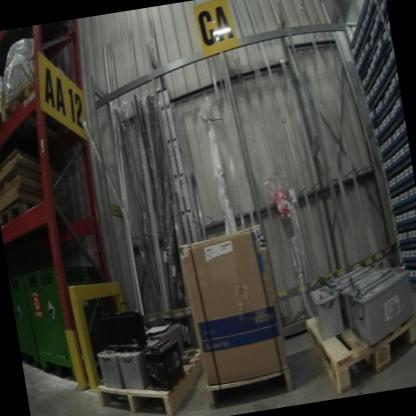pallet: (299, 278, 416, 400), (90, 338, 214, 416), (0, 70, 90, 175), (198, 355, 299, 414), (0, 96, 60, 175), (0, 195, 57, 232)
